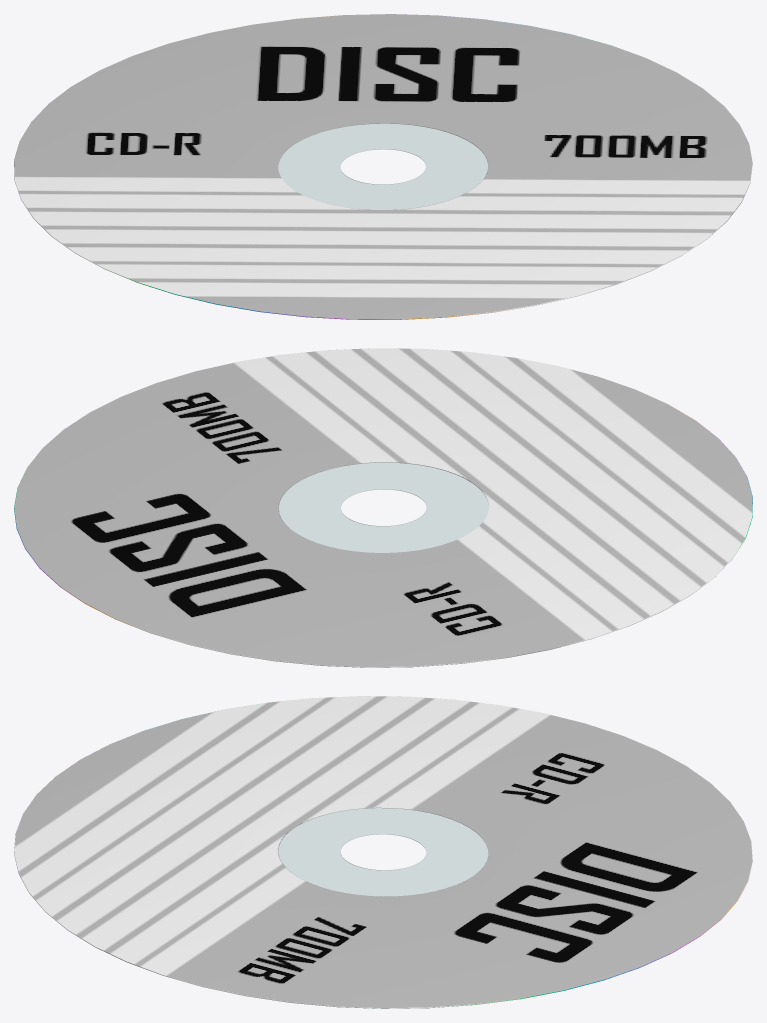
The picture shows the model from 3 angles, top to bottom: view 1: azimuth 30°, elevation 25°; view 2: azimuth 150°, elevation 25°; view 3: azimuth 270°, elevation 25°; orthographic projection.
Visible parts, largest first — view 1: Cylinder001; view 2: Cylinder001; view 3: Cylinder001.
Part boxes in pixels (x1,y1,x2,y2): Cylinder001: (14,14,752,319); Cylinder001: (14,348,752,667); Cylinder001: (14,696,752,1008).
Size of the model in its own units: 20.45 by 0.2605 by 20.46.
1 material, 1 textured.
